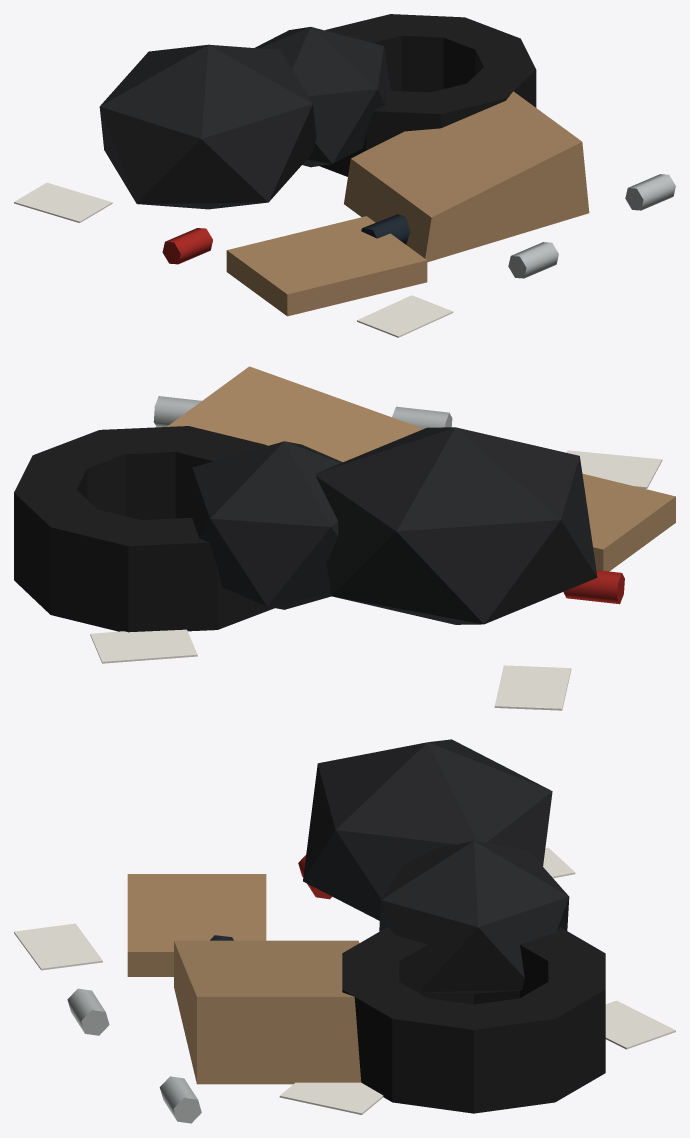
Rendered from trash_pile.glb.
3 renders of one model, top to bottom at view 1: azimuth 30°, elevation 25°; view 2: azimuth 150°, elevation 25°; view 3: azimuth 270°, elevation 25°, orthographic. The views are drawn at different scales.
Visible parts, largest first — view 1: trash_pile; view 2: trash_pile; view 3: trash_pile.
Part boxes in pixels (bbox=[...]): trash_pile: bbox=[14, 14, 675, 337]; trash_pile: bbox=[14, 366, 675, 710]; trash_pile: bbox=[14, 739, 675, 1123].
Size of the model in its own units: 1.42 by 0.457 by 1.43.
Materials: 1 (1 with a texture image).
